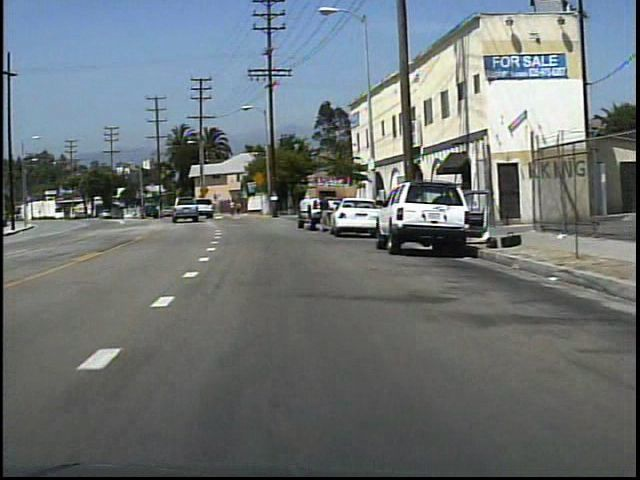person: (317, 188, 334, 235), (229, 198, 239, 218), (235, 200, 244, 217)
